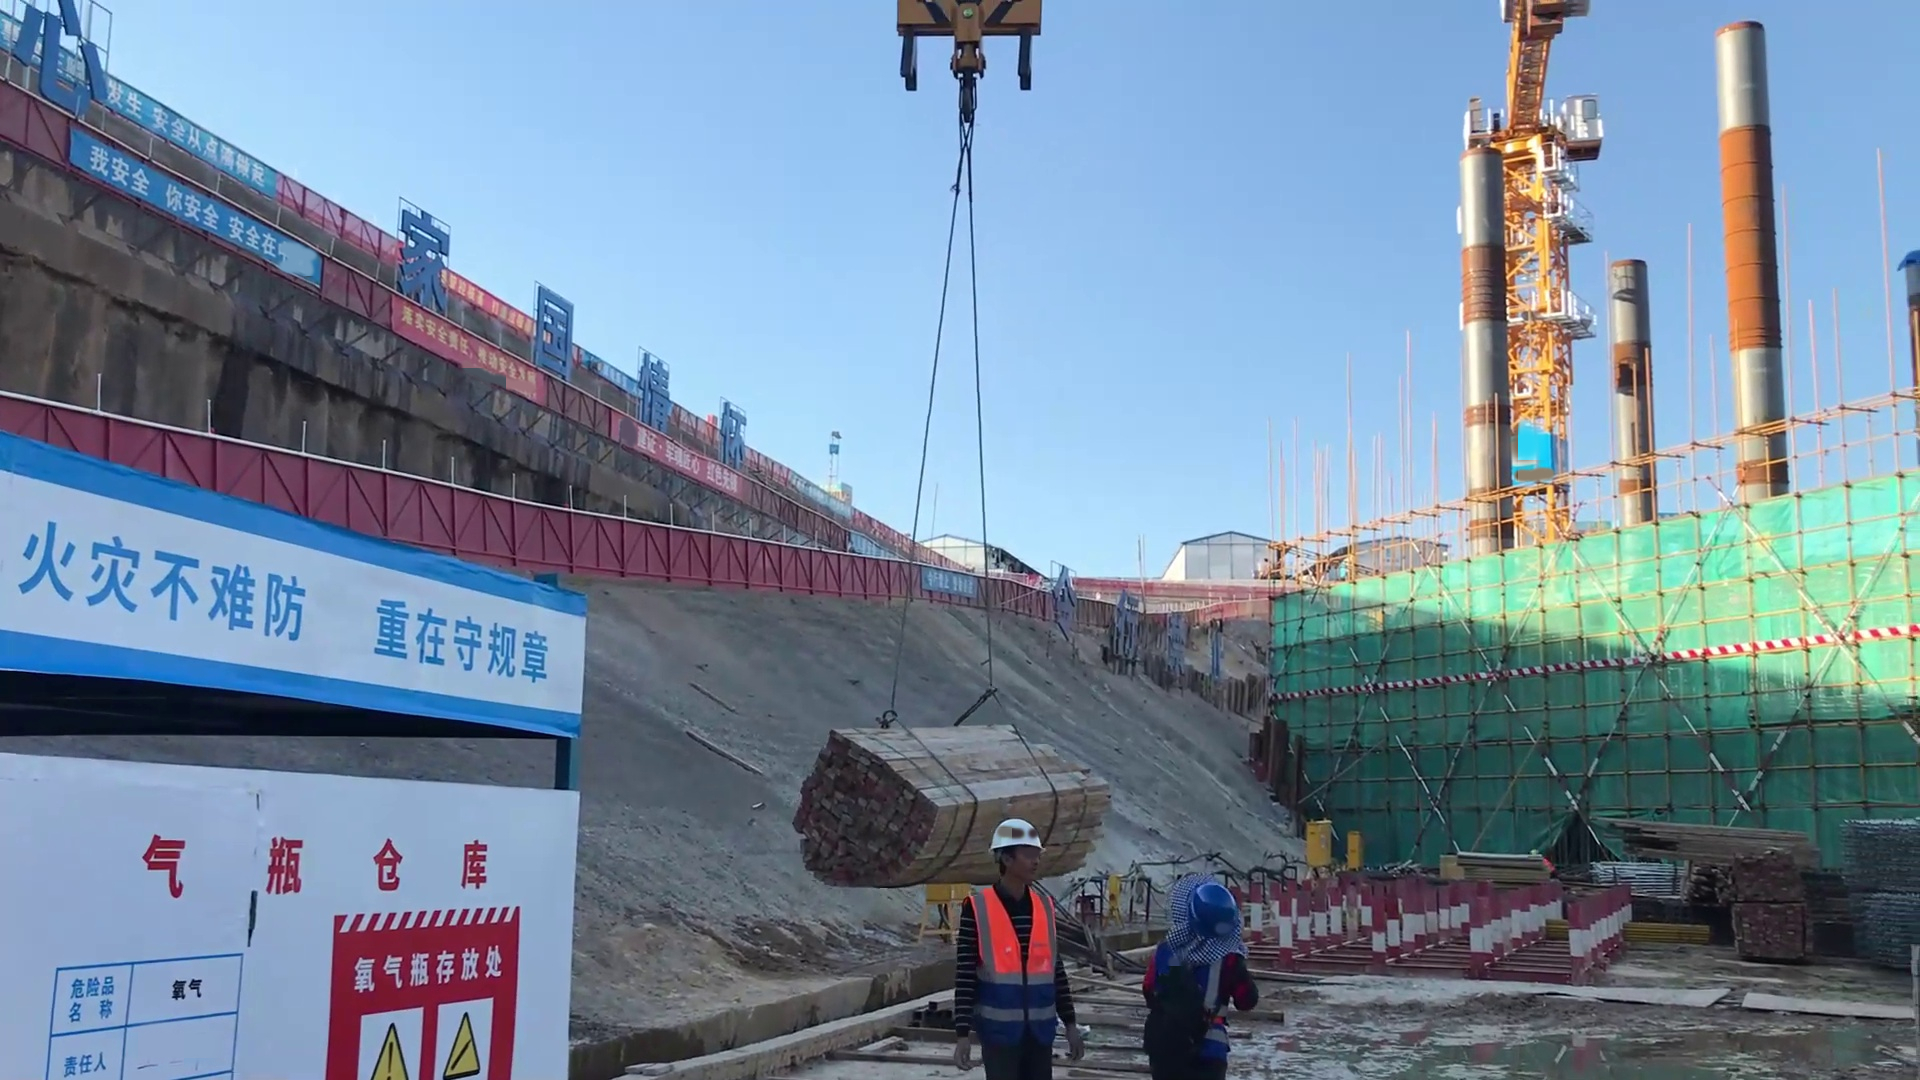ebox: (1303, 817, 1332, 864), (1342, 833, 1368, 869)
fence: (743, 539, 908, 608), (585, 516, 741, 586)
helmet: (978, 812, 1066, 862), (1175, 879, 1234, 938)
hook: (891, 1, 1058, 122)
person: (952, 825, 1089, 1080), (1143, 869, 1250, 1080)
scaffold: (1843, 797, 1920, 964)
slogan: (15, 498, 559, 724), (60, 42, 303, 216), (69, 152, 328, 312), (337, 960, 523, 1080), (382, 296, 548, 422)
vest: (966, 886, 1067, 1041)
wood: (804, 718, 1110, 894), (1606, 802, 1838, 902)
